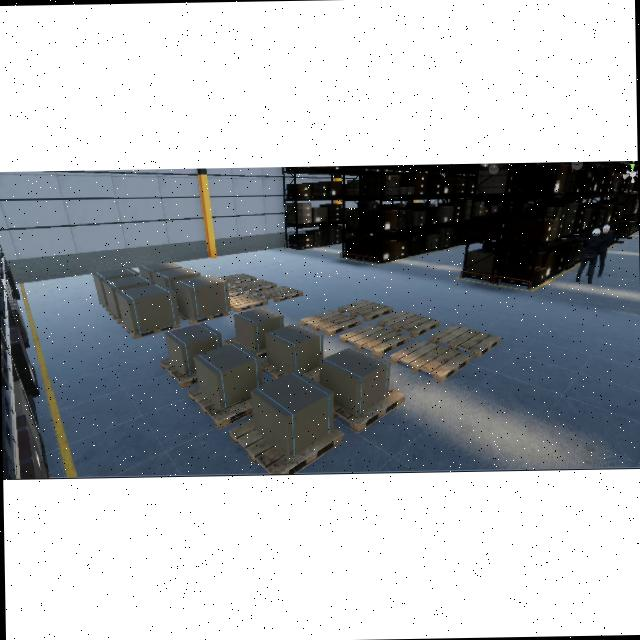wooden_pallet: (228, 418, 343, 475), (389, 338, 471, 382), (332, 386, 404, 433), (187, 386, 253, 429), (428, 323, 501, 357), (339, 323, 409, 357), (377, 310, 440, 337), (299, 308, 361, 335), (337, 298, 394, 322), (160, 357, 197, 388), (121, 321, 180, 340), (257, 285, 303, 302), (229, 292, 268, 312), (178, 309, 229, 324), (235, 278, 277, 294), (217, 272, 257, 285), (228, 284, 244, 297)
